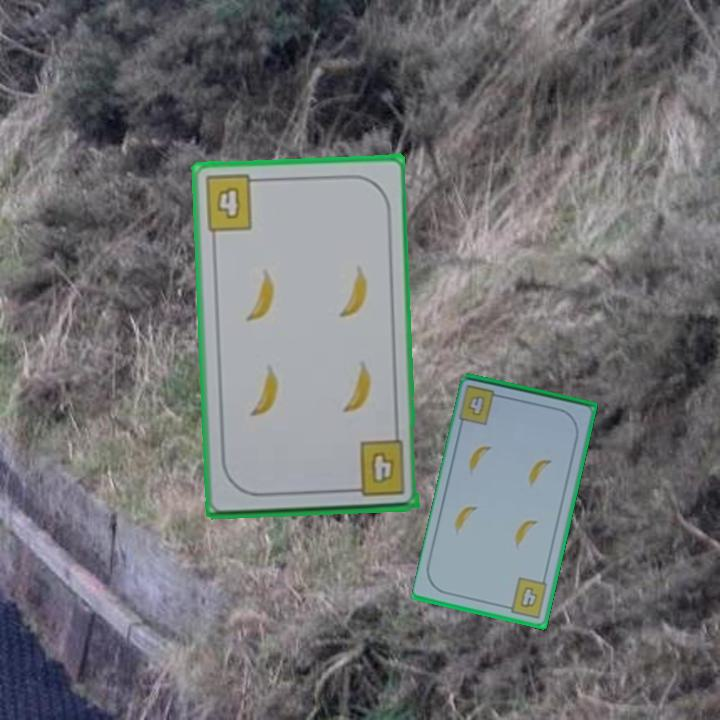4b: (201, 171, 265, 234), (345, 437, 408, 500), (501, 574, 551, 621), (466, 394, 486, 417)
